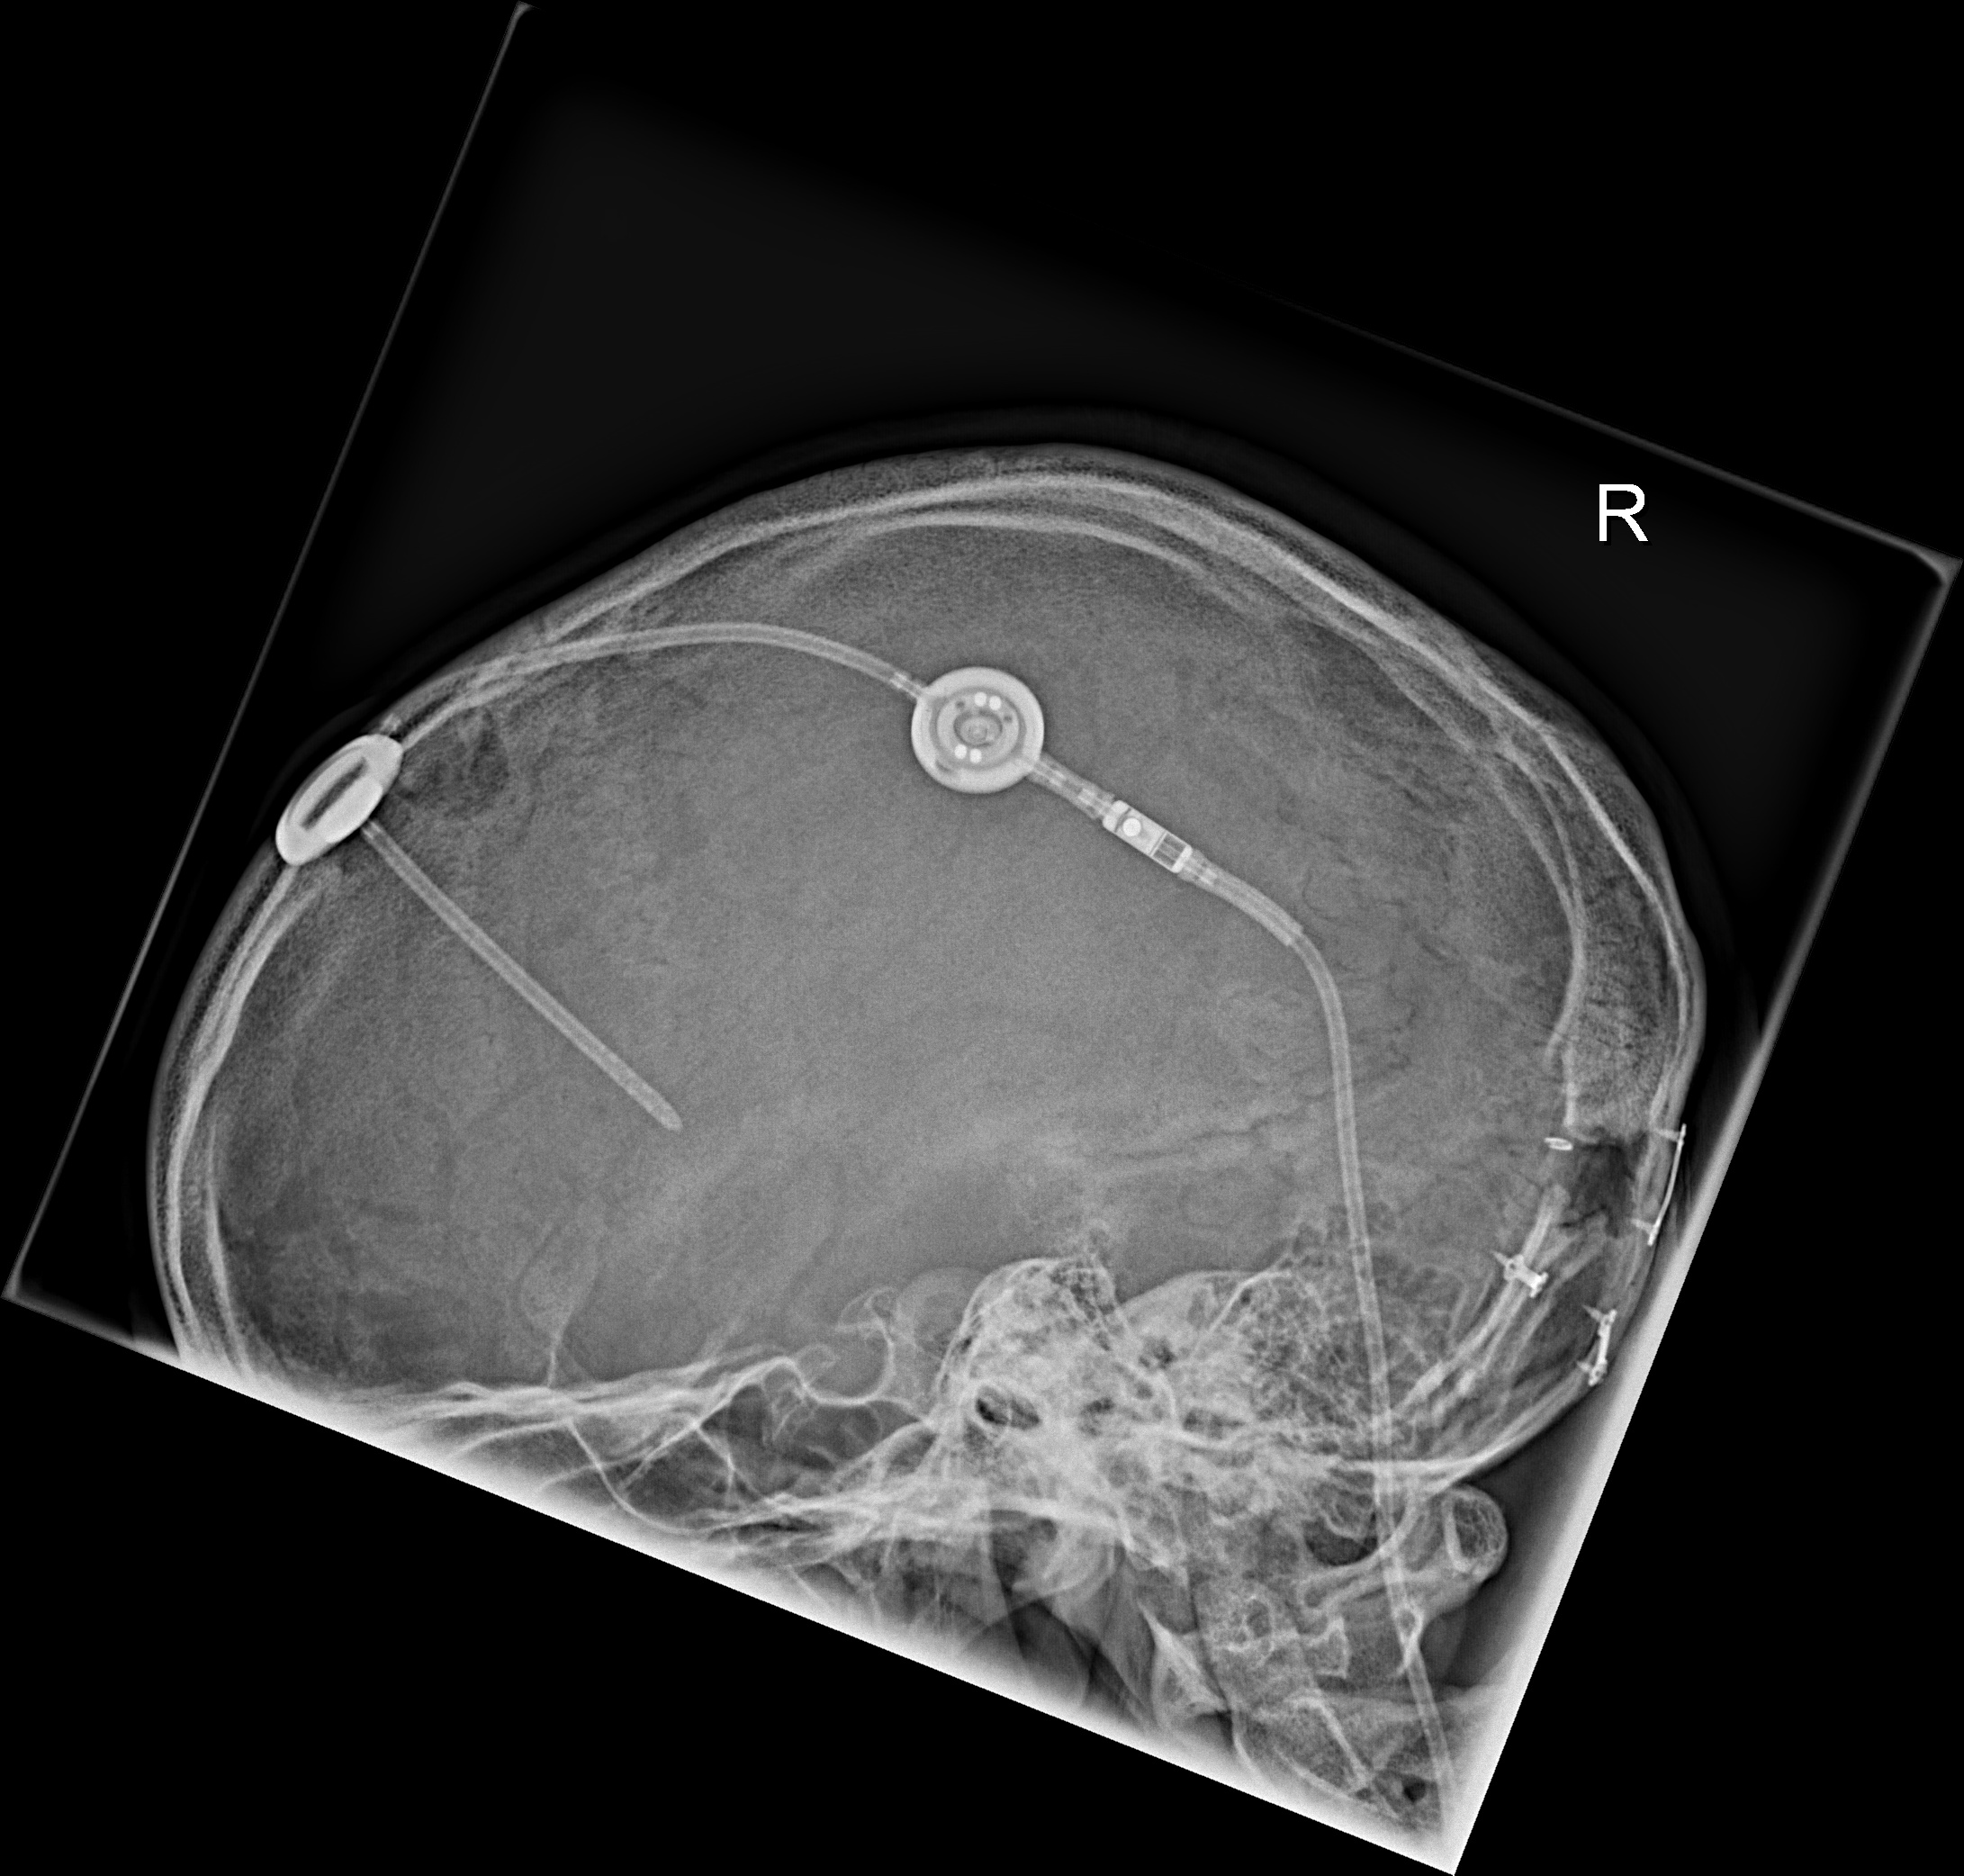proGAV 2.0: (898, 654, 1057, 807)
proGAV Gravitationseinheit: (1087, 778, 1224, 899)
